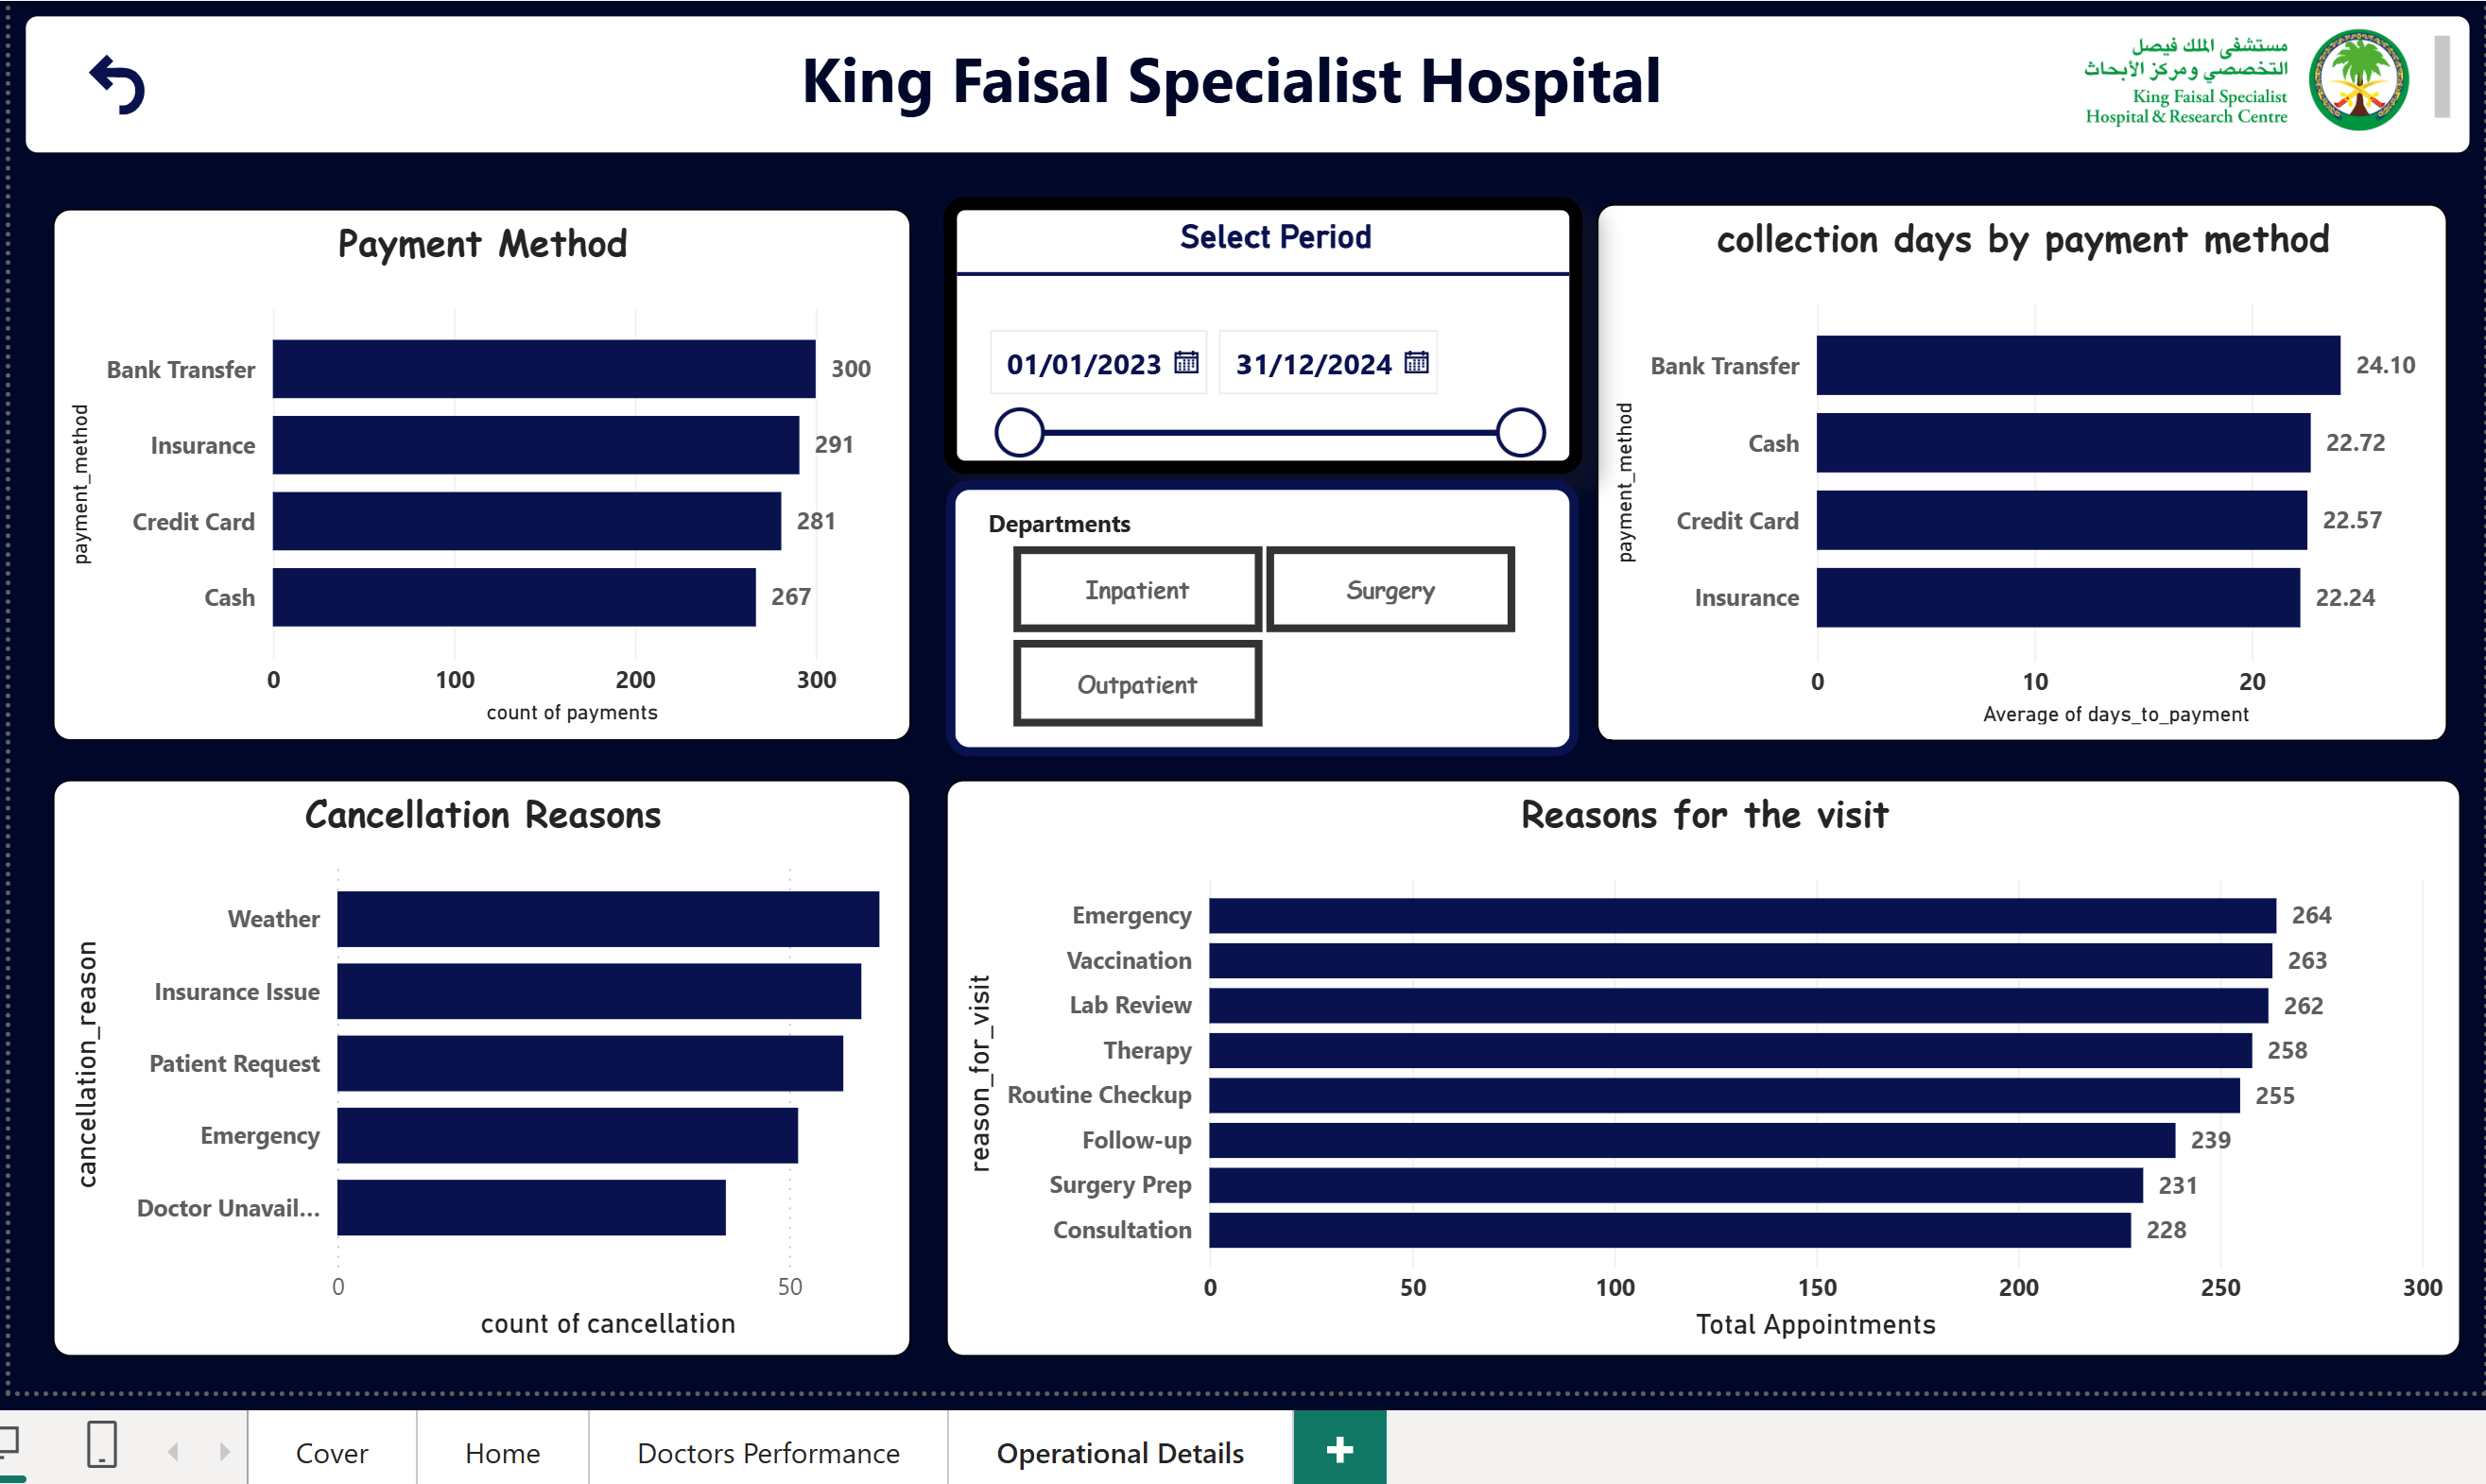

The dashboard page shown, as its layout file describes it:
{"tool":"powerbi","page":{"name":"Operational Details","canvas":[1280,720],"ordinal":3},"visuals":[{"type":"textbox","box":[0,0,1280,86.2],"z":0},{"type":"image","box":[1046.2,10,220,63.8],"z":1000},{"type":"barChart","title":" Cancellation Reasons","fields":{"Category":["appointments.cancellation_reason"],"Y":["appointments.count of cancellation"]},"box":[22,403.5,443.9,298.4],"z":2000},{"type":"barChart","title":"Payment Method","fields":{"Category":["billing.payment_method"],"Y":["billing.count of payments"]},"box":[22,107.6,443.9,275.1],"z":3000},{"type":"barChart","title":"Reasons for the visit","fields":{"Category":["appointments.reason_for_visit"],"Y":["appointments.Total Appointments"]},"box":[484.5,403.5,783.3,298.3],"z":4000},{"type":"barChart","title":" collection days by payment method","fields":{"Category":["billing.payment_method"],"Y":["Avg(billing.days_to_payment)"]},"box":[821.1,105.2,440,278.3],"z":5000},{"type":"slicer","title":"Select Period","fields":{"Values":["appointments.appointment_date"]},"box":[482.8,101.9,330,143.3],"z":6000},{"type":"slicer","fields":{"Values":["doctors.department"]},"box":[484.5,248.5,326.7,143.3],"z":7000},{"type":"actionButton","box":[21.9,23.3,67.1,39.7],"z":8000}]}

Visuals, with their boxes on the page's 1280x720 design canvas (x1, y1, x2, y2). These are canvas units, not pixel positions in the 2486x1484 screenshot, which may show the page scaled, cropped or inside an application window:
textbox: rect(0, 0, 1280, 86)
image: rect(1046, 10, 1266, 74)
" Cancellation Reasons" barChart: rect(22, 404, 466, 702)
"Payment Method" barChart: rect(22, 108, 466, 383)
"Reasons for the visit" barChart: rect(484, 404, 1268, 702)
" collection days by payment method" barChart: rect(821, 105, 1261, 384)
"Select Period" slicer: rect(483, 102, 813, 245)
slicer - doctors.department: rect(484, 248, 811, 392)
actionButton: rect(22, 23, 89, 63)
